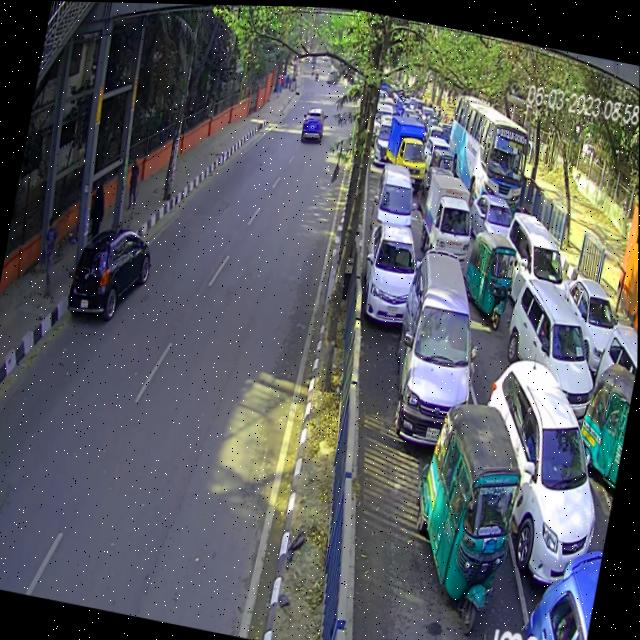cng: (396, 386, 530, 640), (570, 340, 638, 493), (460, 223, 530, 311)
